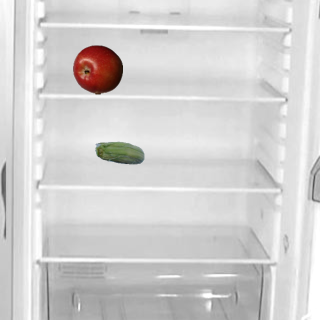Apple Braeburn: (72, 44, 122, 94)
Corn Husk: (94, 129, 144, 179)
